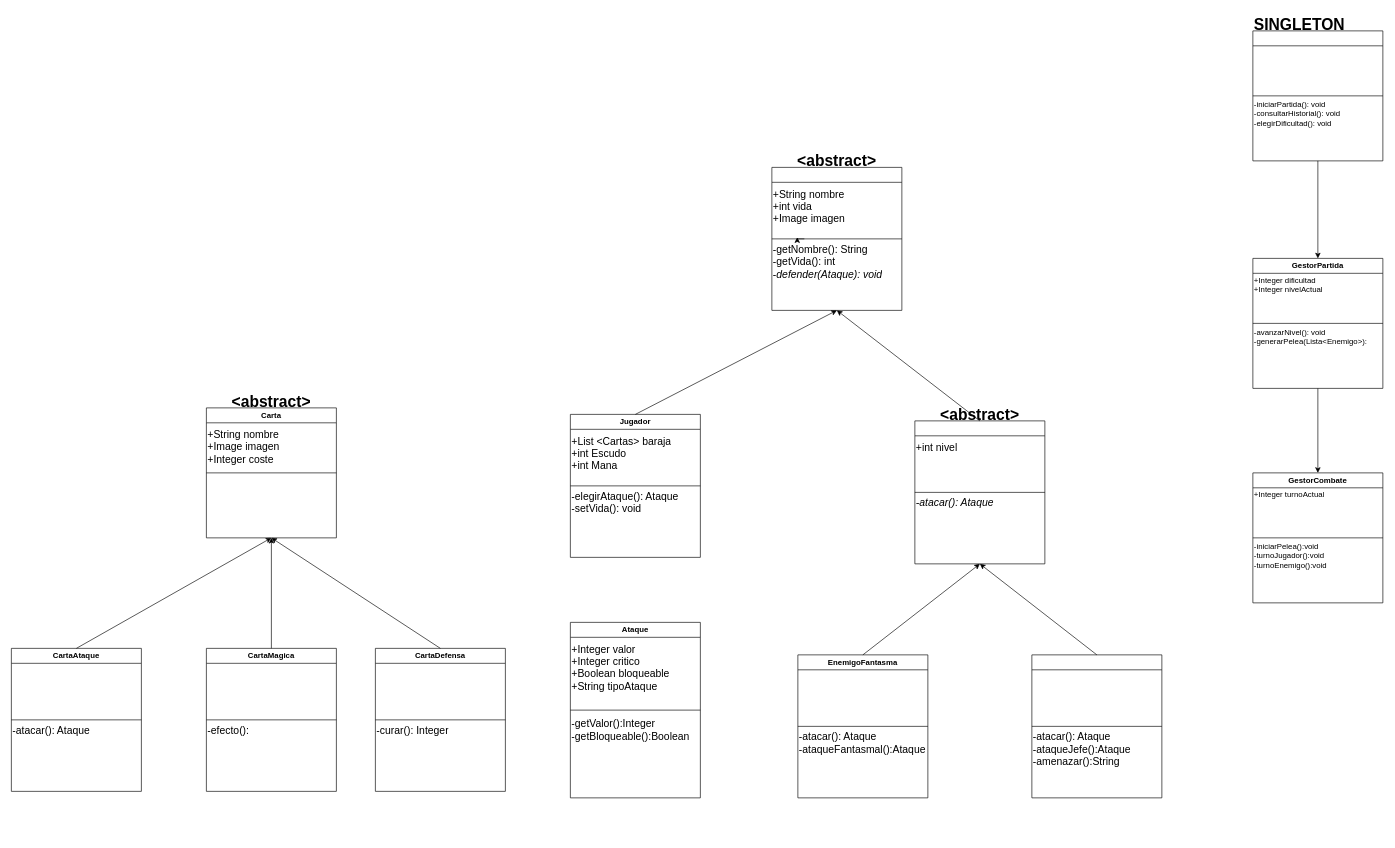
Some shapes in this 1395 by 848 pixel diagram are drawn without their labels. The box of each missing label's shape, as (x1, y1, x2, y2) in pixels:
Enemigo: (914, 420, 1045, 564)
EnemigoJefe: (1031, 654, 1162, 798)
GestorMenu: (1252, 30, 1383, 161)
Unidad: (771, 167, 902, 310)
